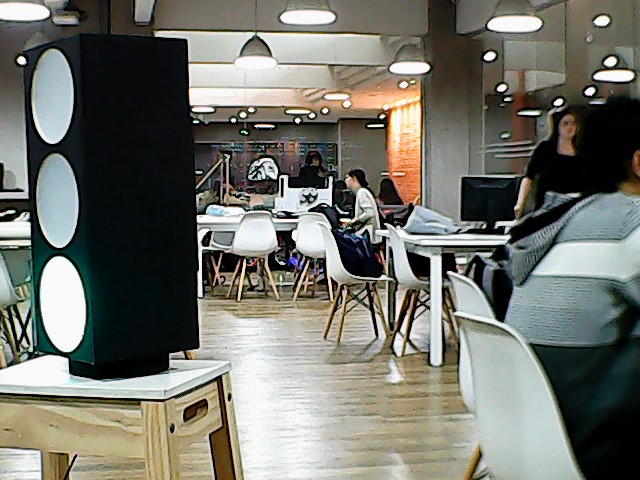verde: (14, 30, 206, 360)
